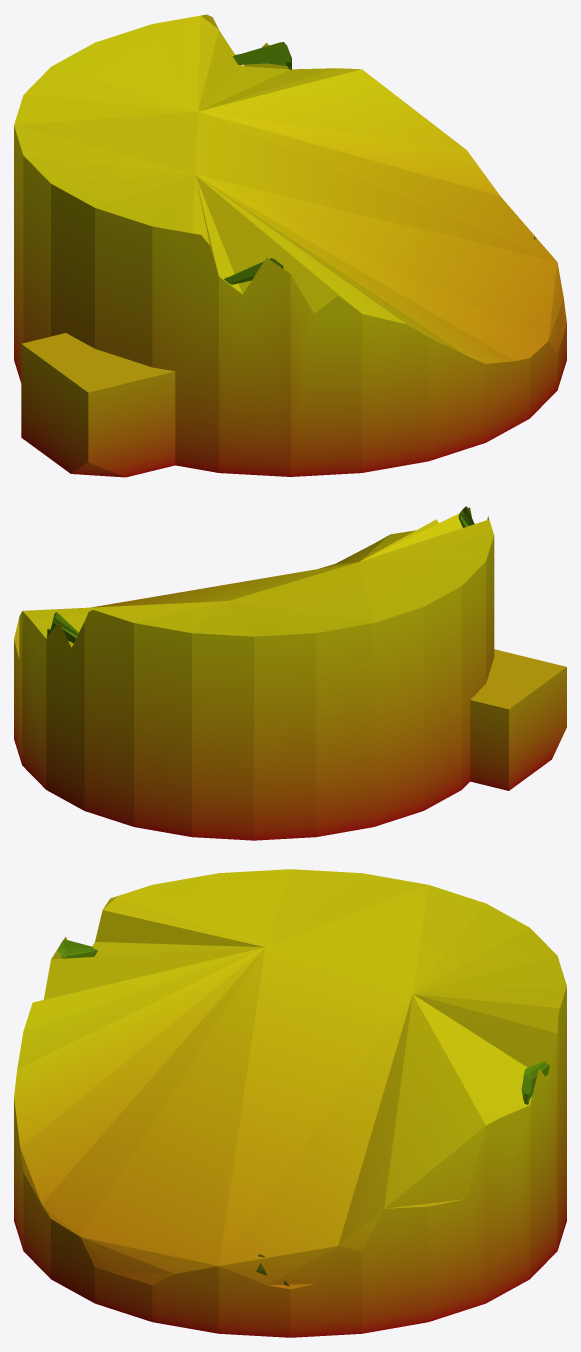
The model's file is tower_drum_broken.glb.
3 renders of one model, top to bottom at view 1: azimuth 30°, elevation 25°; view 2: azimuth 150°, elevation 25°; view 3: azimuth 270°, elevation 25°, orthographic. The views are drawn at different scales.
Parts seen in each view (by area): view 1: tower_drum_broken; view 2: tower_drum_broken; view 3: tower_drum_broken.
Boxes of the visible parts, bbox=[...] form: tower_drum_broken: bbox=[14, 14, 566, 477]; tower_drum_broken: bbox=[14, 506, 566, 840]; tower_drum_broken: bbox=[14, 869, 566, 1337].
Size of what is drawn, in the model's own units: 6.96 by 3 by 6.4.
